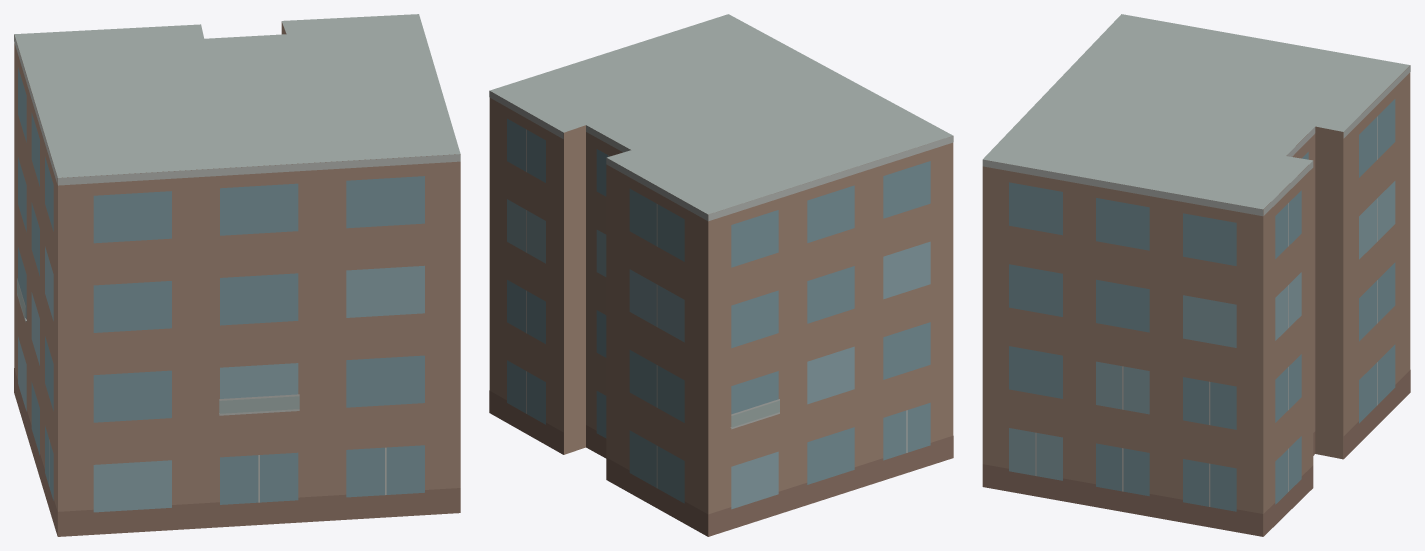
File: survey-upis-32537562.glb
3 renders of one model, left to right at view 1: azimuth 30°, elevation 25°; view 2: azimuth 150°, elevation 25°; view 3: azimuth 270°, elevation 25°, orthographic. The views are drawn at different scales.
Visible parts, largest first — view 1: survey-upis-32537562.tmp; view 2: survey-upis-32537562.tmp; view 3: survey-upis-32537562.tmp.
Boxes of the visible parts, x1,y1,x2,y2 form: survey-upis-32537562.tmp: (14, 14, 460, 536); survey-upis-32537562.tmp: (489, 14, 953, 536); survey-upis-32537562.tmp: (982, 14, 1410, 536).
Size of the model in its own units: 14.86 by 11.6 by 13.75.
